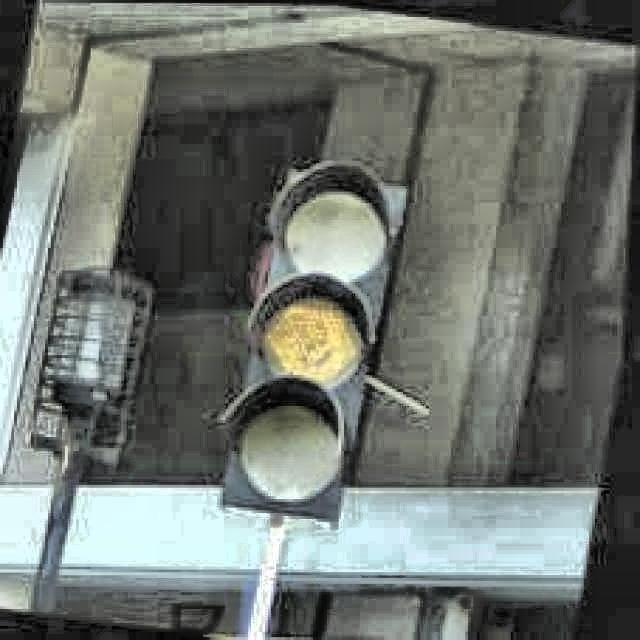yellow: (220, 157, 380, 512)
